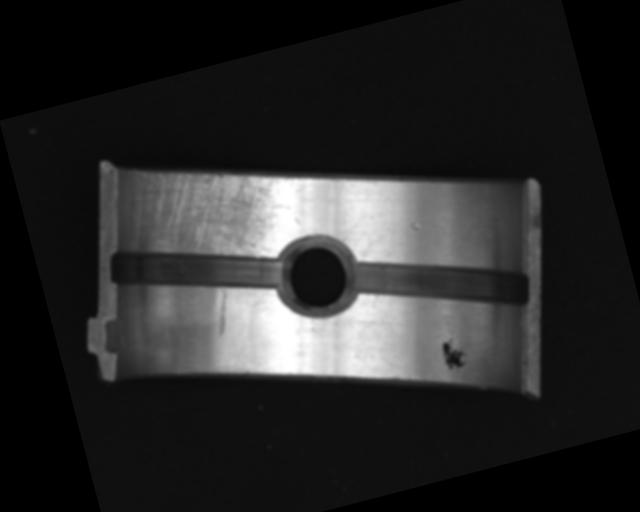blot: (438, 334, 473, 377)
bruise: (408, 220, 423, 231)
gap: (343, 221, 534, 348), (105, 212, 287, 328)
hole: (268, 228, 365, 322)
nick: (205, 285, 238, 338), (333, 214, 369, 244)
scratch: (114, 131, 300, 286)
